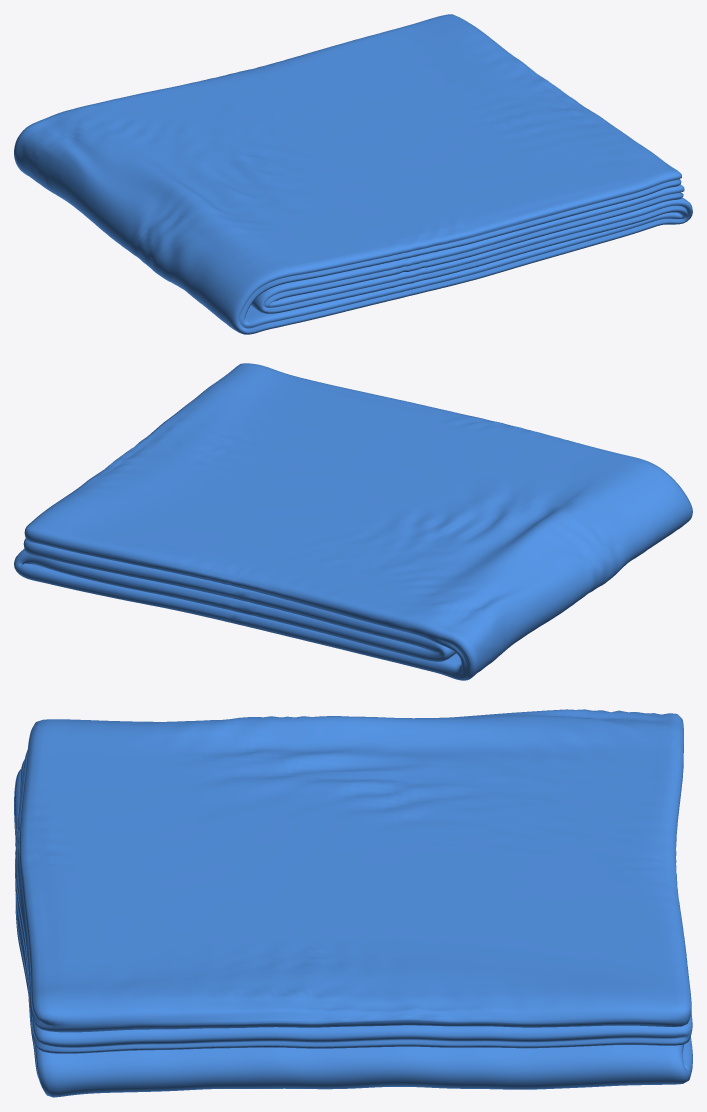
Rendered from Handdoek.fbx.
The picture shows the model from 3 angles, top to bottom: view 1: azimuth 30°, elevation 25°; view 2: azimuth 150°, elevation 25°; view 3: azimuth 270°, elevation 25°; orthographic projection. The views are drawn at different scales.
Visible parts, largest first — view 1: Towels.001; view 2: Towels.001; view 3: Towels.001.
Part boxes in pixels (x1,y1,x2,y2): Towels.001: [14, 14, 692, 334]; Towels.001: [14, 363, 692, 680]; Towels.001: [14, 709, 692, 1097].
Bounding box in the file's own units: 33.85 × 4.38 × 29.37.
